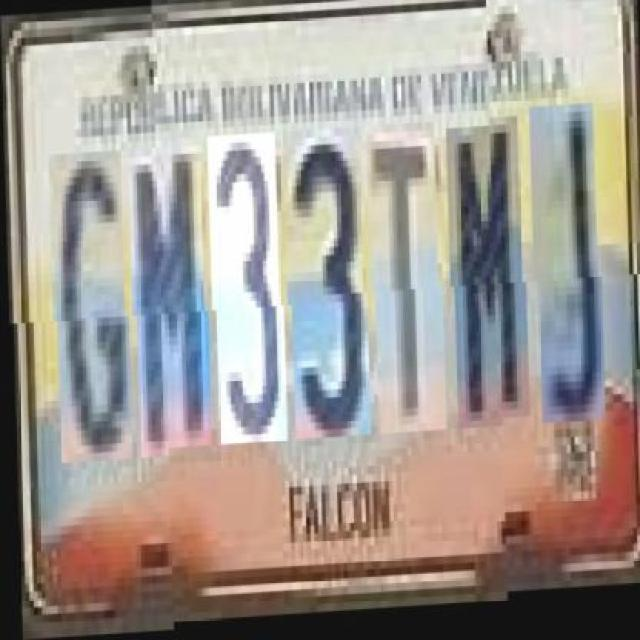3: (286, 131, 368, 443), (210, 135, 285, 448)
g: (51, 143, 131, 455)
j: (532, 119, 603, 438)
m: (130, 139, 210, 452), (448, 131, 527, 435)
t: (368, 127, 444, 439)
